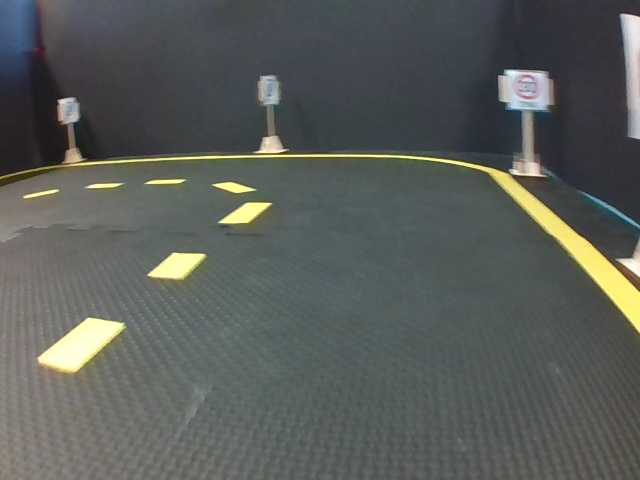30: (506, 70, 549, 109)
no30: (261, 75, 279, 103), (60, 97, 76, 122)
